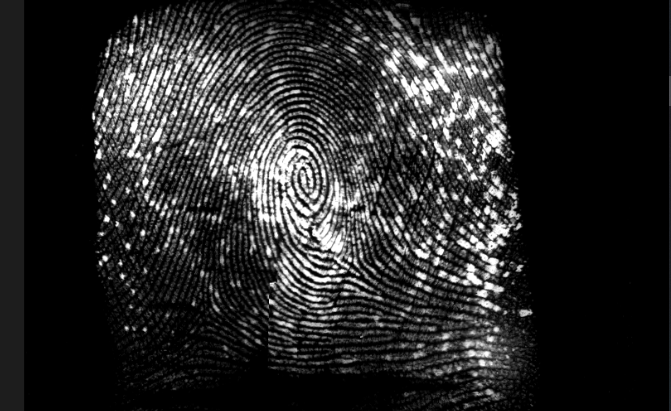deltas: (186, 284, 237, 338)
nucleo: (281, 156, 329, 205)
